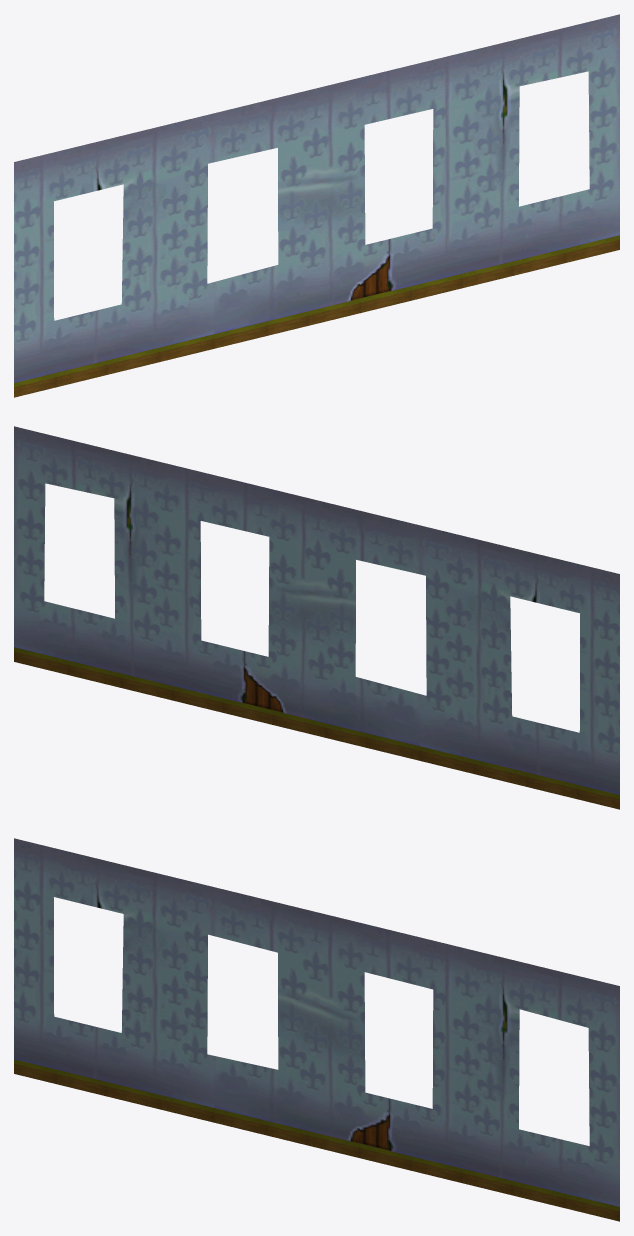
File: W_AI1_ffff [Blau]_1768.glb
The picture shows the model from 3 angles, top to bottom: view 1: azimuth 30°, elevation 25°; view 2: azimuth 150°, elevation 25°; view 3: azimuth 330°, elevation 25°; orthographic projection.
Visible parts, largest first — view 1: polySurfaceShape786; view 2: polySurfaceShape786; view 3: polySurfaceShape786.
Part boxes in pixels (left/top/right/bottom): polySurfaceShape786: left=14, top=14, right=619, bottom=397; polySurfaceShape786: left=14, top=426, right=619, bottom=809; polySurfaceShape786: left=14, top=838, right=619, bottom=1221.
Bounding box in the file's own units: 0.9385 × 0.3486 × 1.31e-07.
Materials: 1 (1 with a texture image).
